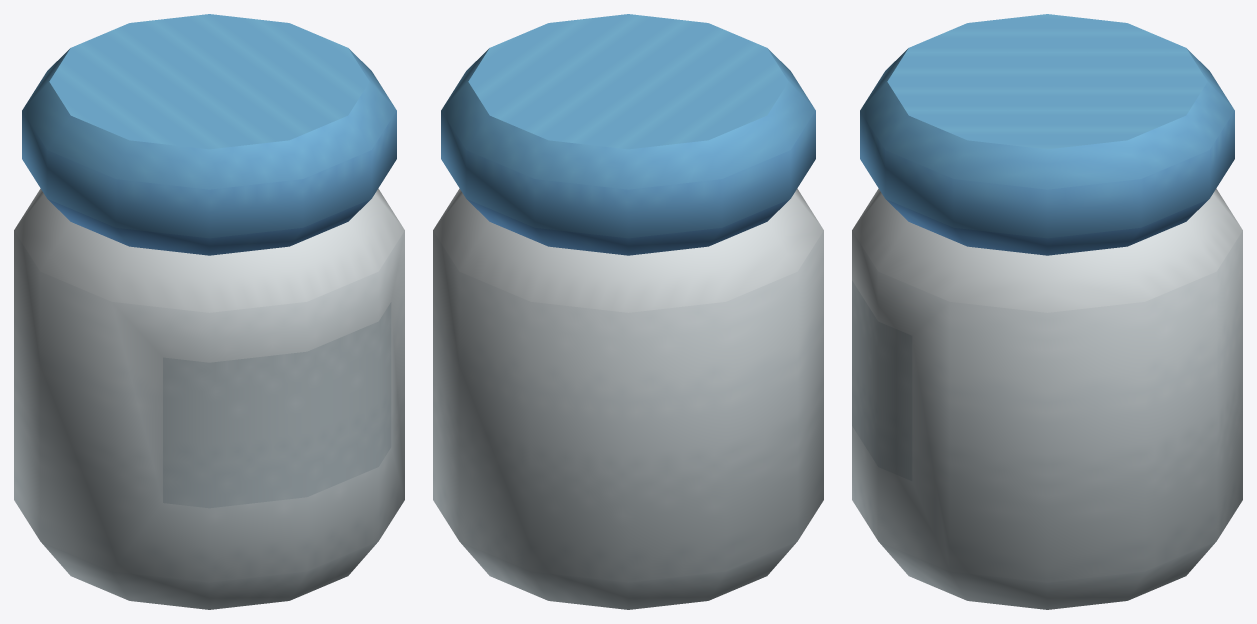
Rendered from jar_A_medium.gltf.
3 views of the same model, side by side, from view 1: azimuth 30°, elevation 25°; view 2: azimuth 150°, elevation 25°; view 3: azimuth 270°, elevation 25° (orthographic).
Visible parts, largest first — view 1: jar_A_medium; view 2: jar_A_medium; view 3: jar_A_medium.
Boxes of the visible parts, x1,y1,x2,y2 form: jar_A_medium: (14,14,404,609); jar_A_medium: (433,14,823,609); jar_A_medium: (852,14,1242,609).
Bounding box in the file's own units: 0.5 × 0.65 × 0.5.
1 material, 1 textured.
